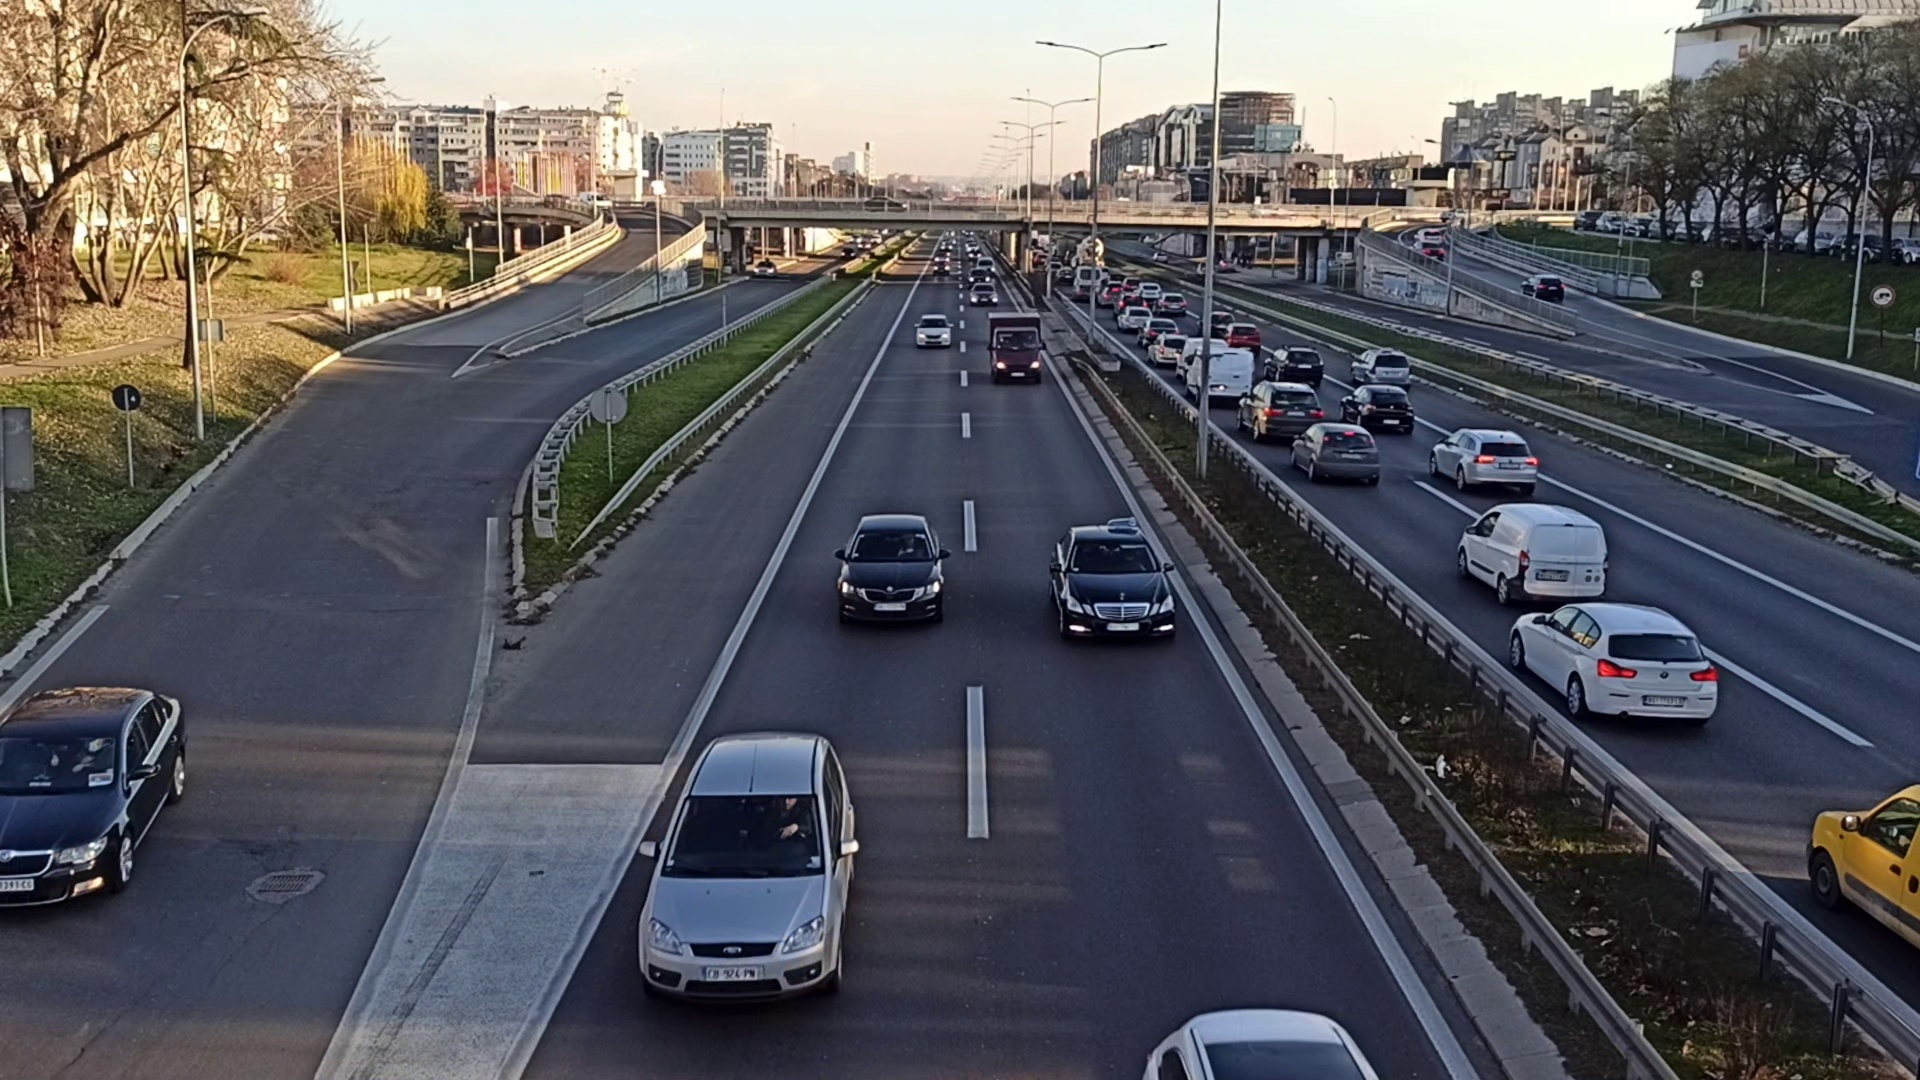car: (638, 728, 860, 994), (1510, 603, 1722, 724), (1050, 524, 1175, 647), (837, 512, 943, 622), (1427, 429, 1535, 491), (1292, 425, 1378, 480), (1240, 382, 1320, 434), (1342, 384, 1410, 433), (915, 313, 952, 349), (1524, 274, 1564, 305), (971, 282, 996, 305)
truck: (986, 309, 1042, 382)
van: (1455, 504, 1607, 609)
